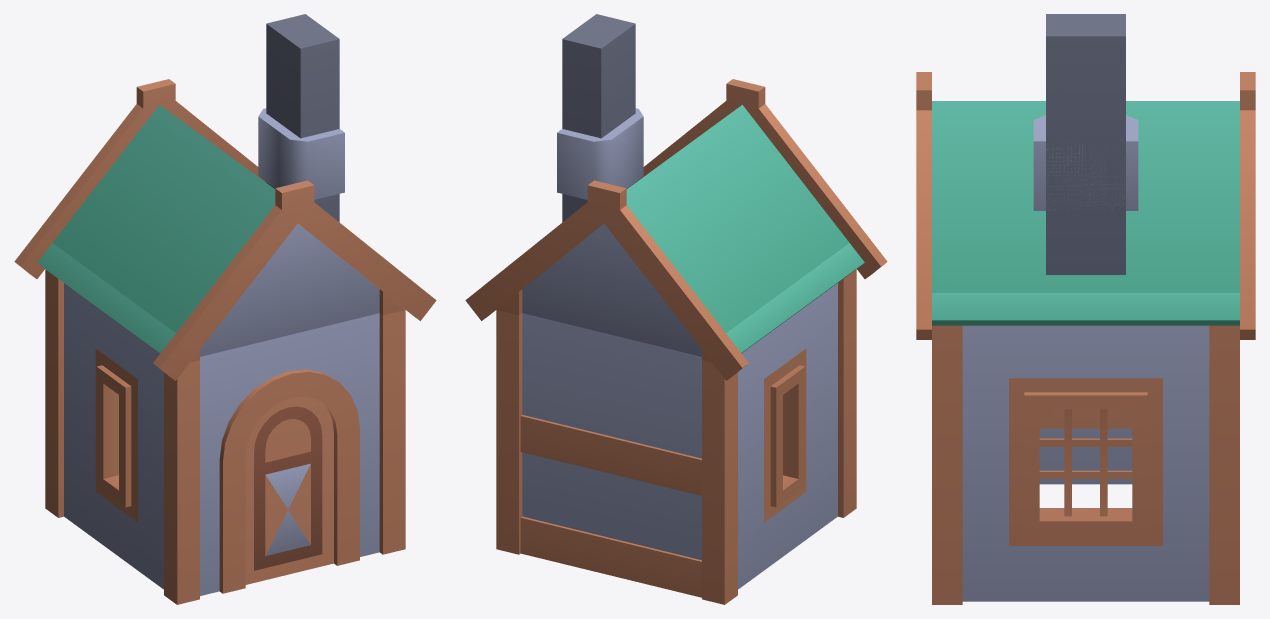
The model's file is cottage_c.glb.
3 views of the same model, side by side, from view 1: azimuth 30°, elevation 25°; view 2: azimuth 150°, elevation 25°; view 3: azimuth 270°, elevation 25° (orthographic). The views are drawn at different scales.
Visible parts, largest first — view 1: cottage_c_body; view 2: cottage_c_body; view 3: cottage_c_body.
Part boxes in pixels (left/top/right/bottom): cottage_c_body: left=14, top=14, right=436, bottom=604; cottage_c_body: left=465, top=14, right=887, bottom=604; cottage_c_body: left=916, top=14, right=1255, bottom=604.
Size of the model in its own units: 1.21 by 2 by 1.1.
1 material, 1 textured.
